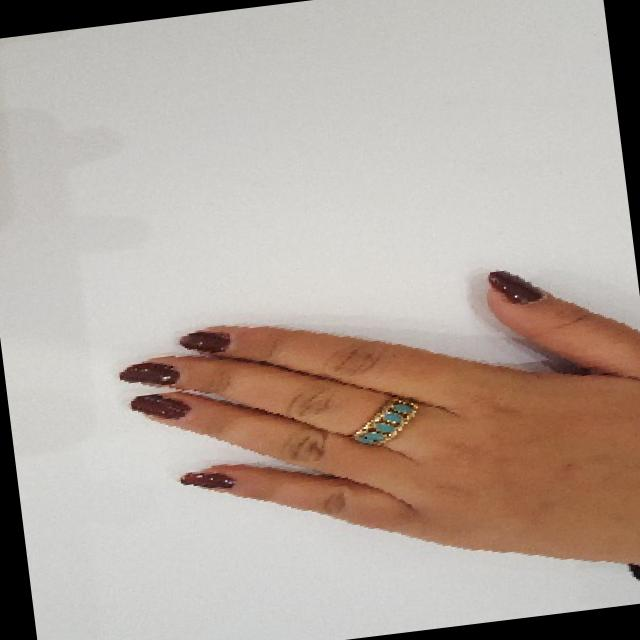Nail: (488, 270, 543, 303), (130, 393, 189, 418), (119, 361, 179, 384), (180, 330, 230, 350), (179, 470, 233, 487)
